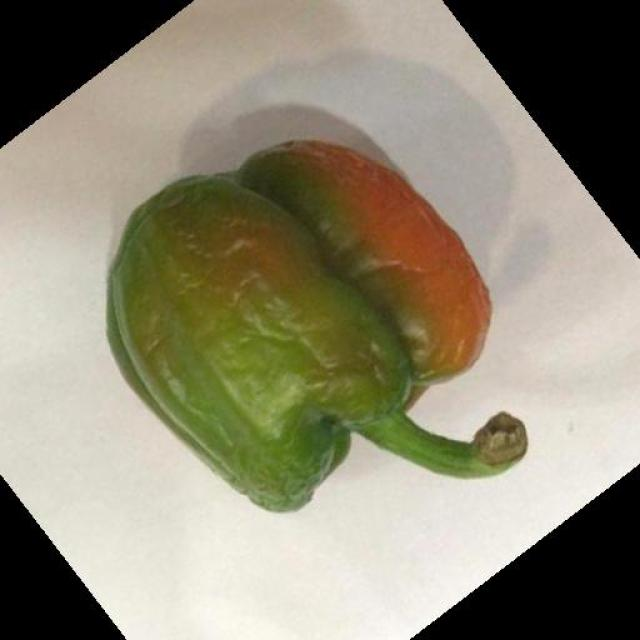Stale_Capsicum: (111, 122, 515, 498)
